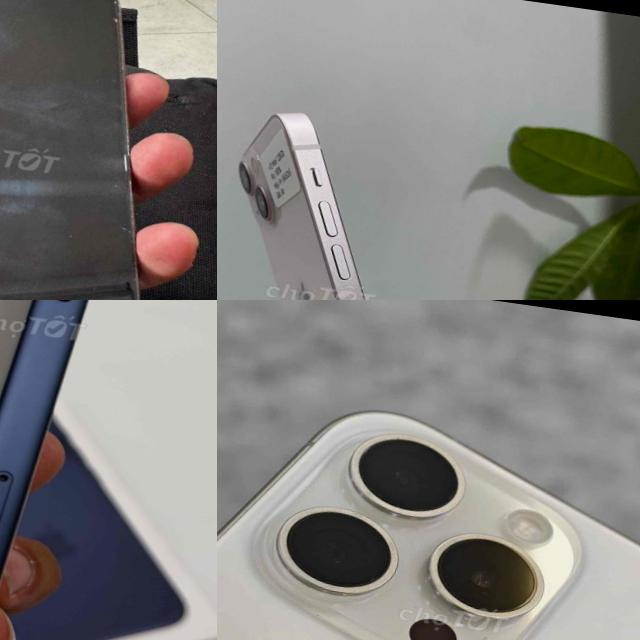gen_12_13: (0, 0, 193, 300), (217, 100, 473, 300)
gen_15: (217, 372, 640, 640)
gen_17: (0, 300, 209, 640)
